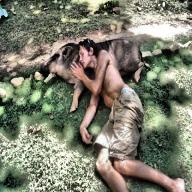boar: (39, 42, 78, 78)
